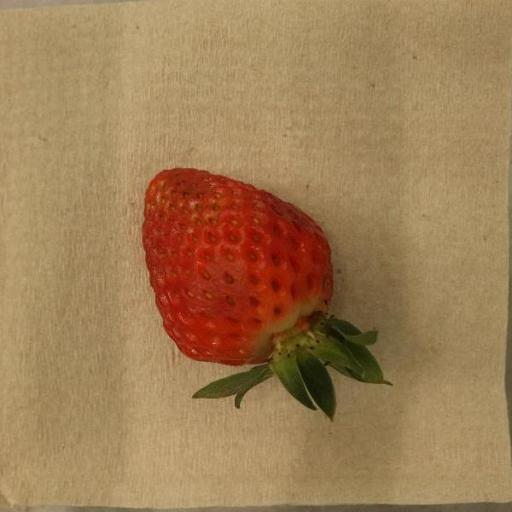Strawberry: (142, 168, 393, 423)
